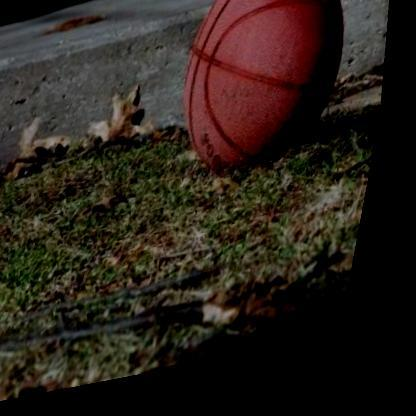basketball: (154, 0, 378, 207)
